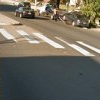crosswalk: (0, 28, 100, 56)
